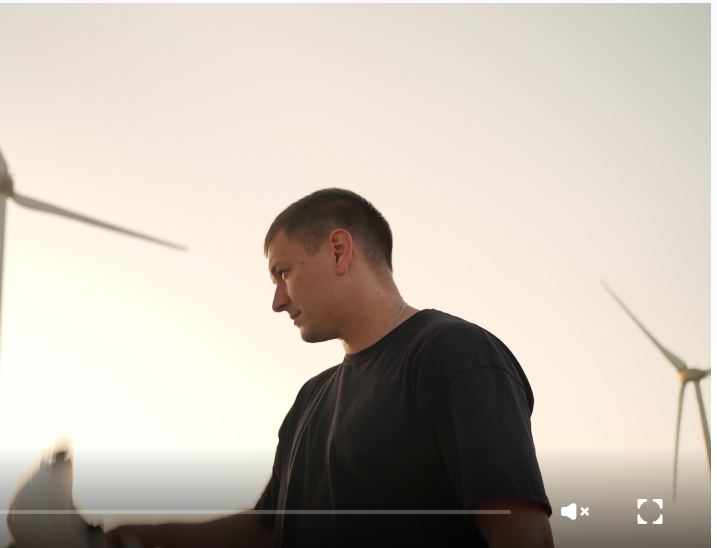safety_helmet: (599, 278, 712, 501), (6, 437, 108, 547)
